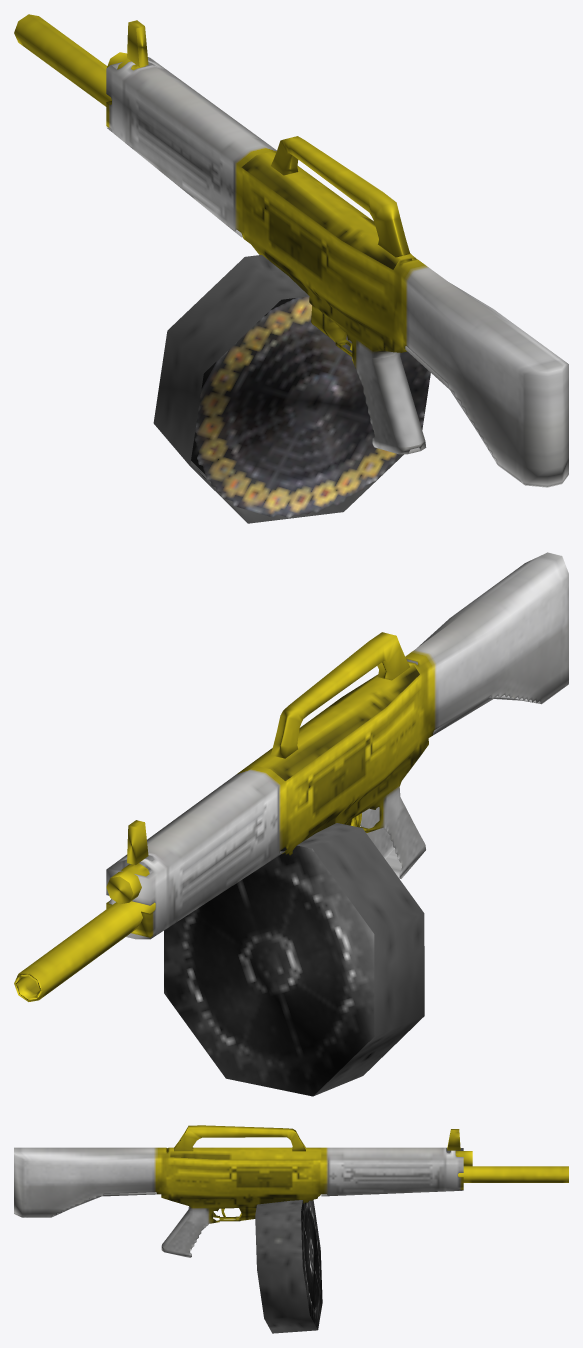
Rendered from usas12.fbx.
The picture shows the model from 3 angles, top to bottom: view 1: azimuth 30°, elevation 25°; view 2: azimuth 150°, elevation 25°; view 3: azimuth 270°, elevation 25°; orthographic projection. The views are drawn at different scales.
Visible parts, largest first — view 1: Cylinder; view 2: Cylinder; view 3: Cylinder.
Part boxes in pixels (bbox=[...]): Cylinder: bbox=[14, 14, 568, 523]; Cylinder: bbox=[14, 552, 568, 1096]; Cylinder: bbox=[14, 1125, 568, 1333].
Bounding box in the file's own units: 119 × 182 × 464.
